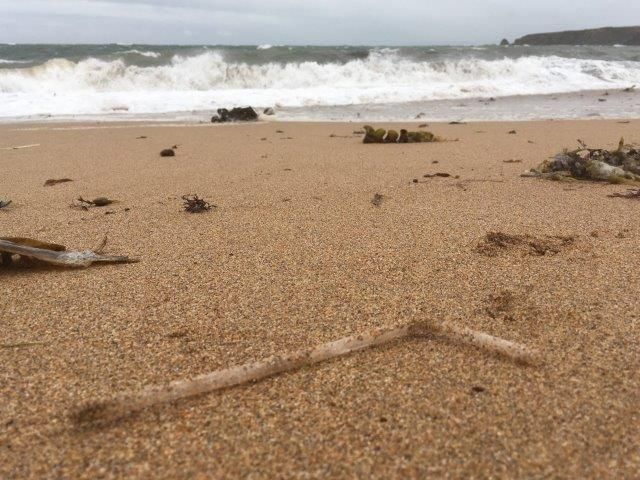sedotan: (73, 316, 540, 419)
